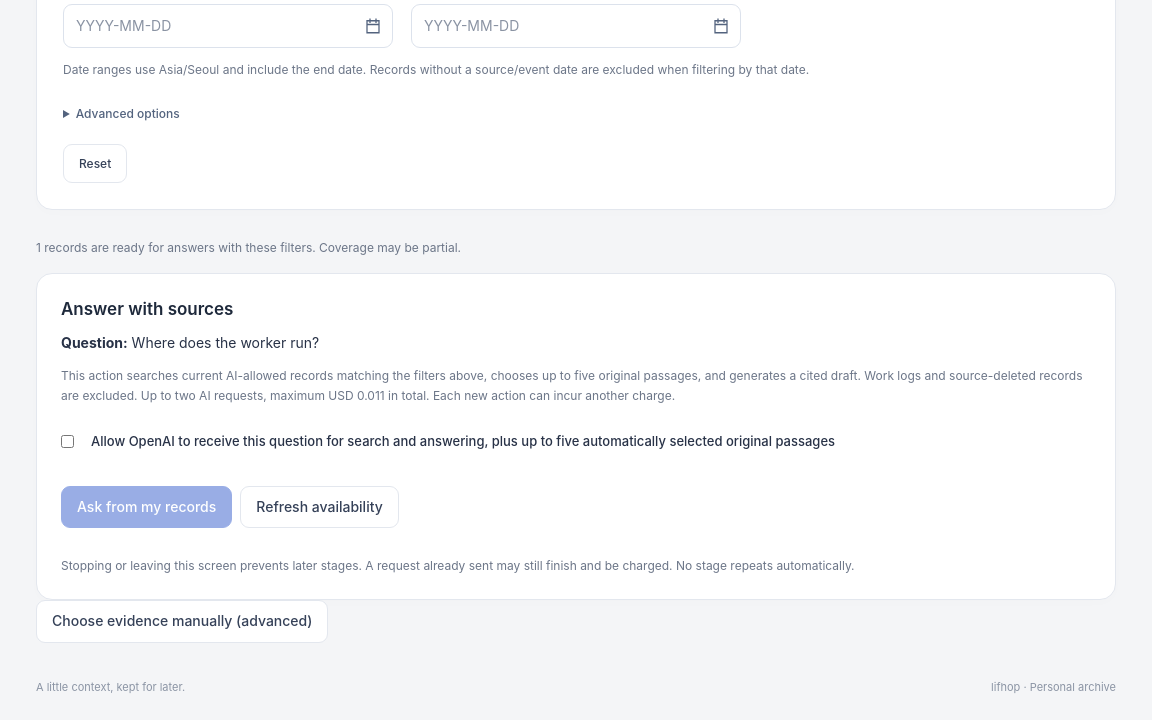
Test case: does not retry after a search failure
(page scrolled)
Check: the button "Ask from my records" is shown, box [61,486,232,528]
Click the checkbox named "Allow OpenAI to receive this question for search and answering, plus up to five automatically selected original passages". click: [68, 441]
box: [61,433,74,450]
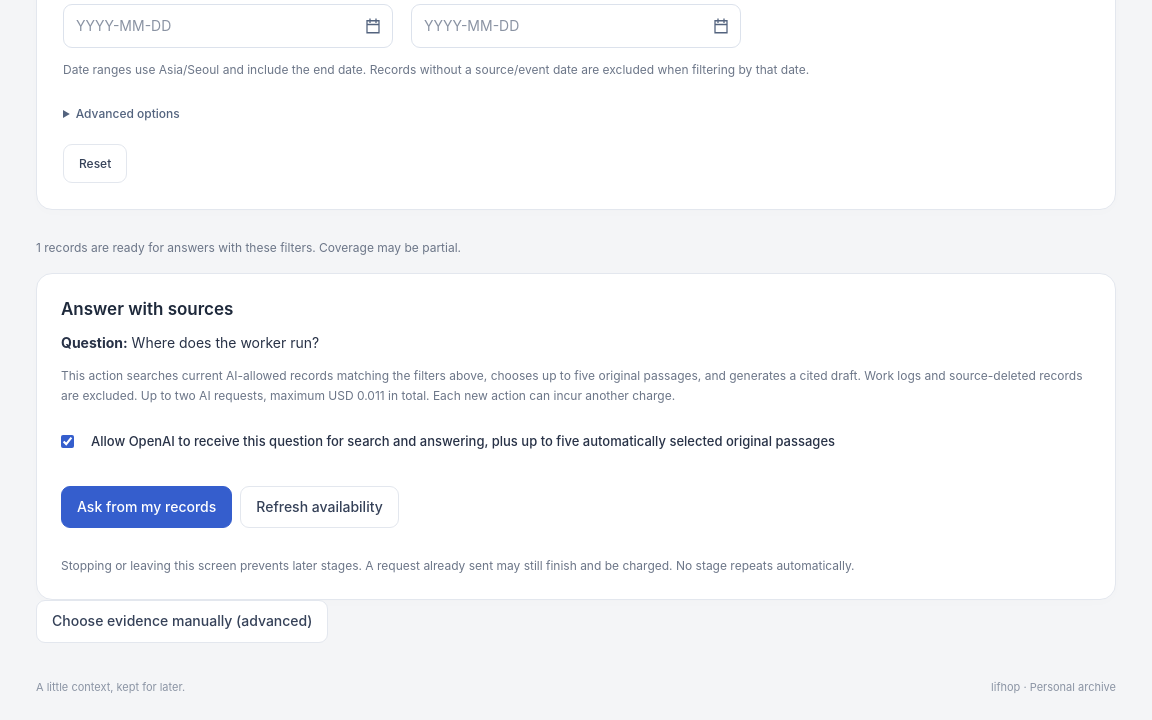
Click the button "Ask from my records". click: [147, 507]
box: [61,486,232,528]
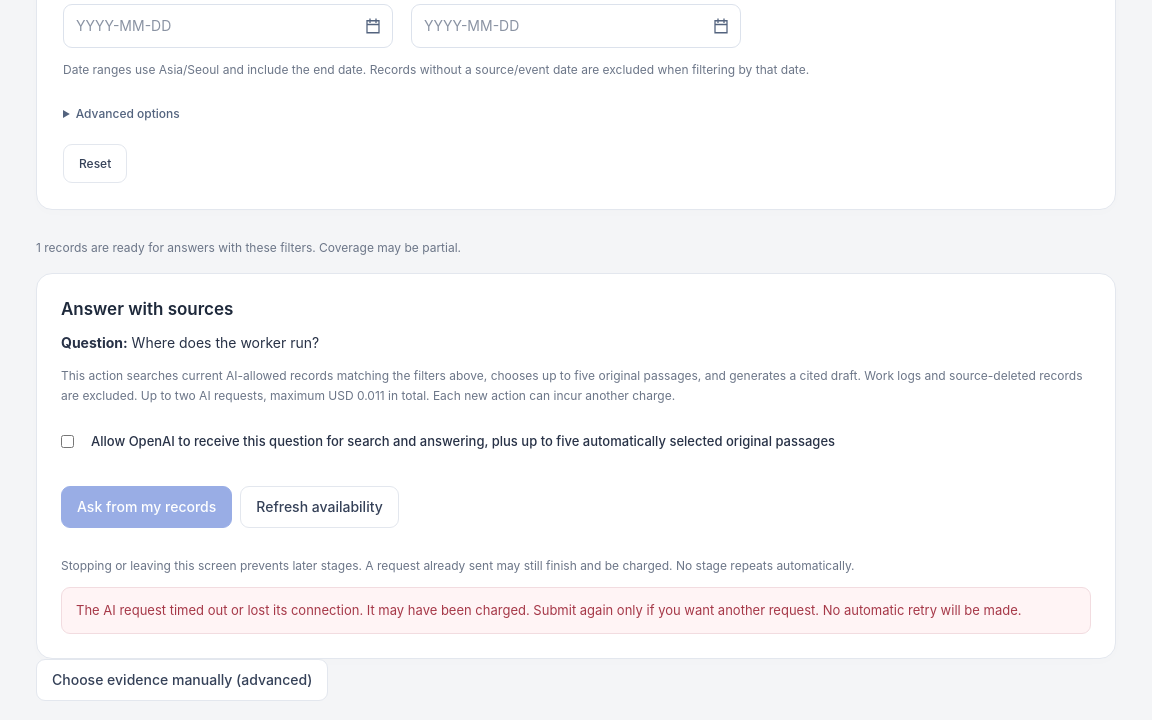
Check: the checkbox named "Allow OpenAI to receive this question for search and answering, plus up to five automatically selected original passages" is not checked, box [61,433,74,450]
Check: the message is shown, box [61,587,1091,634]
